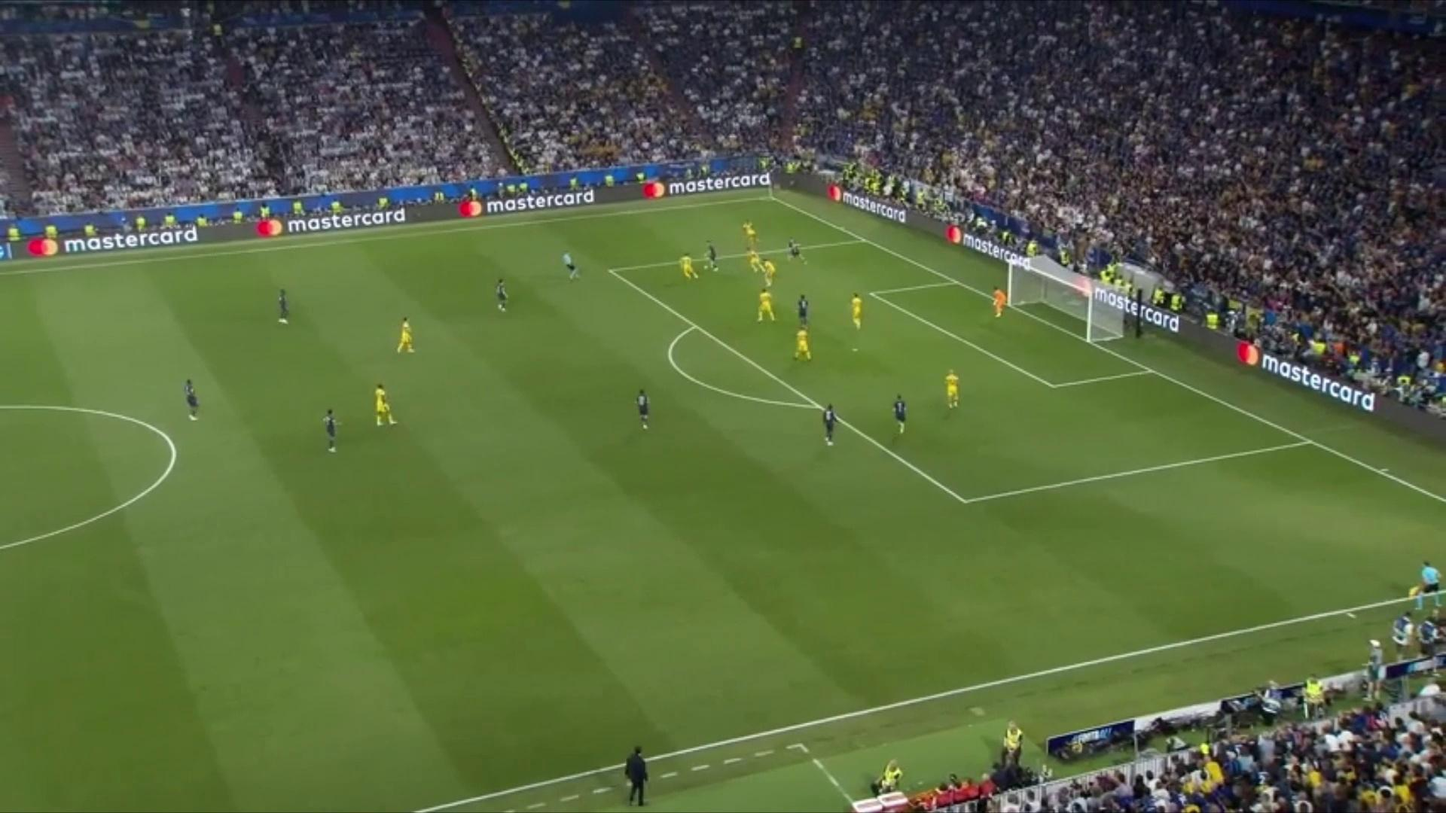ball: (703, 265, 709, 270)
